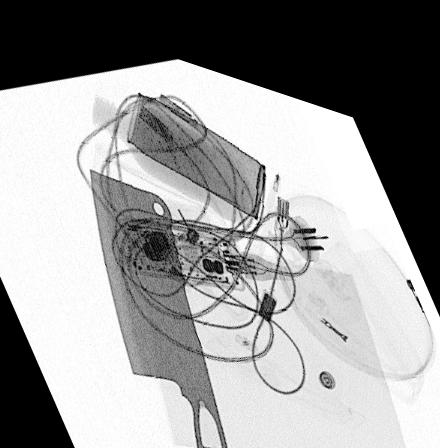Knife: (88, 161, 233, 448)
